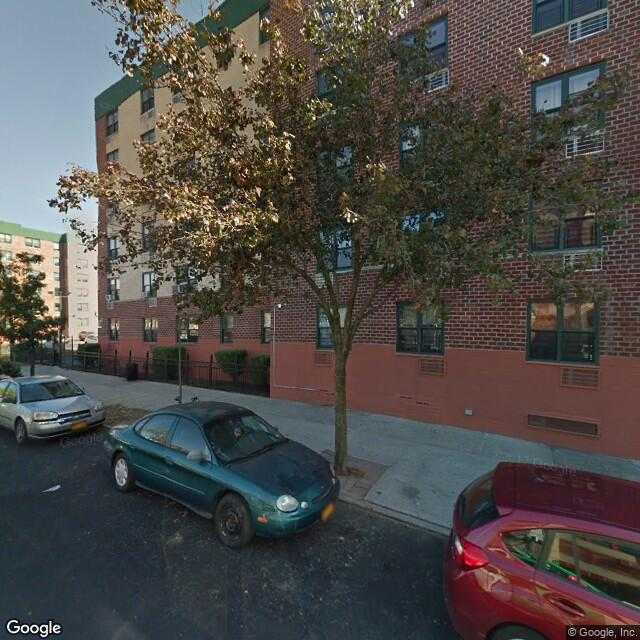litter: (46, 481, 59, 496)
